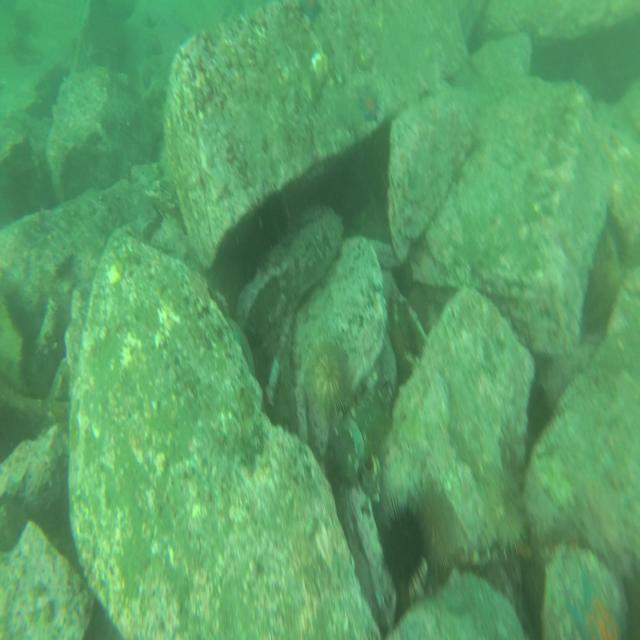echinus: (378, 490, 429, 596), (478, 463, 527, 557), (307, 341, 349, 412), (420, 492, 454, 574)
starfish: (569, 568, 626, 640), (356, 81, 380, 125)
